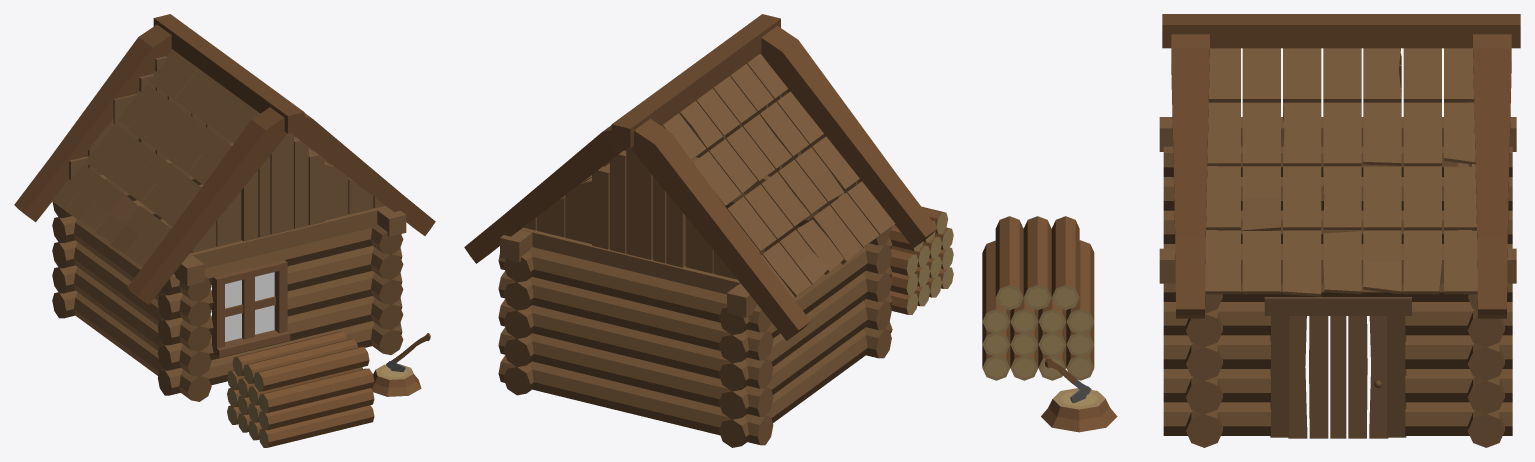
File: lumberjack'sHouse.fbx
The picture shows the model from 3 angles, left to right: view 1: azimuth 30°, elevation 25°; view 2: azimuth 150°, elevation 25°; view 3: azimuth 270°, elevation 25°; orthographic projection. The views are drawn at different scales.
Visible parts, largest first — view 1: Cube.007, Cube.030, Circle.001, Circle.003, Cube.027, Circle.002, Cube.008, Cube.004, Cube.003, Circle, Circle.005, Cube (+1 smaller); view 2: Circle.005, Cube.007, Cube.030, Circle.002, Cube.027, Cube.004, Circle.003, Cube.003, Circle, Circle.001, Cube; view 3: Cube.007, Circle, Cube.030, Circle.003, Cube.004, Cube.006, Cube.001, Circle.001, Circle.005, Circle.002, Cube.002, Cube (+3 smaller).
Part boxes in pixels (<box>): Cube.007: <box>52,49,350,266</box>; Cube.030: <box>14,24,435,304</box>; Circle.001: <box>157,228,402,395</box>; Circle.003: <box>227,331,374,447</box>; Cube.027: <box>69,56,385,253</box>; Circle.002: <box>74,219,211,401</box>; Cube.008: <box>212,260,290,357</box>; Cube.004: <box>153,14,304,133</box>; Cube.003: <box>99,143,387,268</box>; Circle: <box>371,224,403,354</box>; Circle.005: <box>52,176,203,318</box>; Cube: <box>174,149,406,285</box>; Circle.005: <box>498,247,773,445</box>; Cube.007: <box>562,53,895,298</box>; Cube.030: <box>464,26,937,340</box>; Circle.002: <box>718,237,892,447</box>; Cube.027: <box>523,91,860,279</box>; Cube.004: <box>611,14,780,148</box>; Circle.003: <box>889,206,953,314</box>; Cube.003: <box>520,157,844,294</box>; Circle: <box>503,250,533,395</box>; Circle.001: <box>725,193,891,358</box>; Cube: <box>500,163,757,317</box>; Cube.007: <box>1205,48,1477,296</box>; Circle: <box>1163,283,1512,435</box>; Cube.030: <box>1171,34,1511,318</box>; Circle.003: <box>982,216,1094,380</box>; Cube.004: <box>1162,14,1520,48</box>; Cube.006: <box>1288,316,1388,438</box>; Cube.001: <box>1270,316,1406,437</box>; Circle.001: <box>1185,166,1222,447</box>; Circle.005: <box>1467,294,1504,447</box>; Circle.002: <box>1163,146,1512,248</box>; Cube.002: <box>1264,297,1411,315</box>; Cube: <box>1159,117,1516,283</box>.
Bounding box in the file's own units: 350 × 298 × 410.
